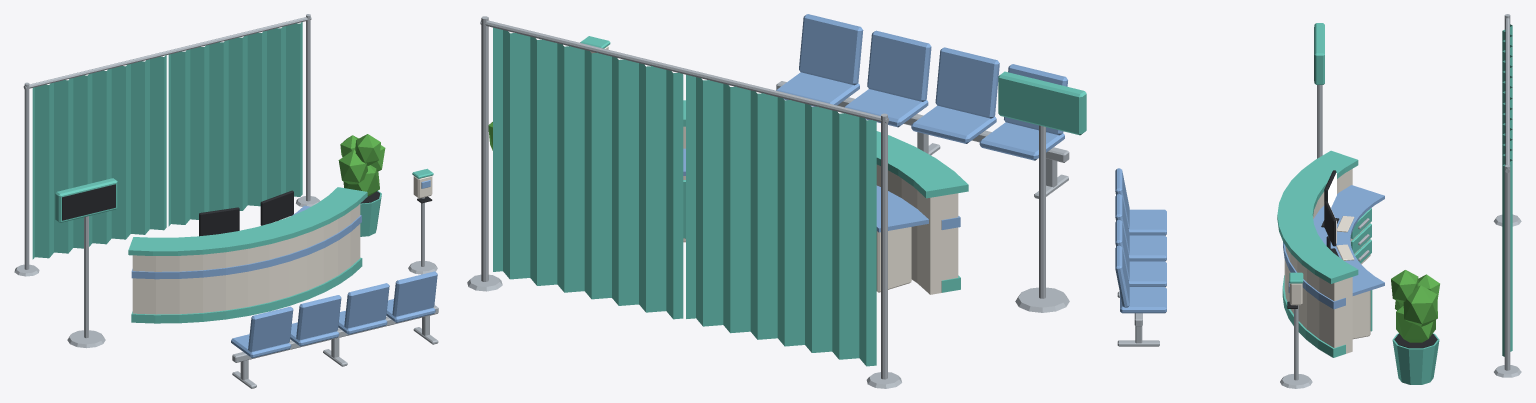
File: hospital-reception-desk.glb
3 renders of one model, left to right at view 1: azimuth 30°, elevation 25°; view 2: azimuth 150°, elevation 25°; view 3: azimuth 270°, elevation 25°, orthographic. The views are drawn at different scales.
Parts seen in each view (by area): view 1: Curtain_R, Curtain_L, Desk_Front, Desk_Counter, Desk_KickBand, Desk_Stripe, Chair_3_Back, Chair_4_Back, Chair_2_Back, Chair_1_Back, CurtainRail, NumberDisplay_Screen (+16 smaller); view 2: Curtain_R, Curtain_L, Desk_Front, NumberDisplay_Box, Chair_3_Back, Chair_2_Back, Chair_4_Back, Desk_Counter, CurtainRail, CurtainPost_R, Chair_2_Seat, CurtainPost_L (+9 smaller); view 3: Desk_Counter, Desk_Front, Desk_Worktop, Curtain_R, Plant_Pot, CurtainPost_R, Plant_Leaves_2, Chair_4_Seat, Chair_1_Seat, Chair_2_Seat, Chair_3_Seat, Pedestal_Cabinet (+15 smaller).
Boxes of the visible parts, left/top/right/bottom form: Curtain_R: left=168, top=22, right=302, bottom=226; Curtain_L: left=32, top=55, right=166, bottom=259; Desk_Front: left=132, top=204, right=360, bottom=314; Desk_Counter: left=128, top=187, right=367, bottom=255; Desk_KickBand: left=131, top=257, right=362, bottom=323; Desk_Stripe: left=131, top=215, right=361, bottom=279; Chair_3_Back: left=344, top=283, right=389, bottom=328; Chair_4_Back: left=392, top=271, right=437, bottom=316; Chair_2_Back: left=296, top=295, right=341, bottom=340; Chair_1_Back: left=248, top=306, right=293, bottom=351; CurtainRail: left=23, top=16, right=311, bottom=89; NumberDisplay_Screen: left=62, top=184, right=115, bottom=220; Curtain_R: left=493, top=27, right=683, bottom=319; Curtain_L: left=686, top=74, right=876, bottom=366; Desk_Front: left=683, top=126, right=958, bottom=294; NumberDisplay_Box: left=998, top=71, right=1086, bottom=135; Chair_3_Back: left=867, top=30, right=931, bottom=101; Chair_2_Back: left=935, top=47, right=999, bottom=118; Chair_4_Back: left=799, top=14, right=863, bottom=85; Desk_Counter: left=683, top=100, right=968, bottom=198; CurtainRail: left=480, top=20, right=888, bottom=123; CurtainPost_R: left=481, top=16, right=488, bottom=281; Chair_2_Seat: left=911, top=105, right=996, bottom=143; CurtainPost_L: left=881, top=113, right=887, bottom=379; Desk_Counter: left=1277, top=150, right=1358, bottom=283; Desk_Front: left=1284, top=169, right=1352, bottom=353; Desk_Worktop: left=1313, top=185, right=1384, bottom=295; Curtain_R: left=1502, top=97, right=1512, bottom=356; Plant_Pot: left=1392, top=333, right=1439, bottom=384; CurtainPost_R: left=1504, top=165, right=1510, bottom=370; Plant_Leaves_2: left=1403, top=285, right=1437, bottom=326; Chair_4_Seat: left=1120, top=287, right=1166, bottom=313; Chair_1_Seat: left=1128, top=209, right=1166, bottom=235; Chair_2_Seat: left=1129, top=235, right=1166, bottom=261; Chair_3_Seat: left=1129, top=261, right=1166, bottom=287; Pedestal_Cabinet: left=1352, top=290, right=1370, bottom=339.
Bounding box in the file's own units: 20.11 × 9.68 × 17.31.
